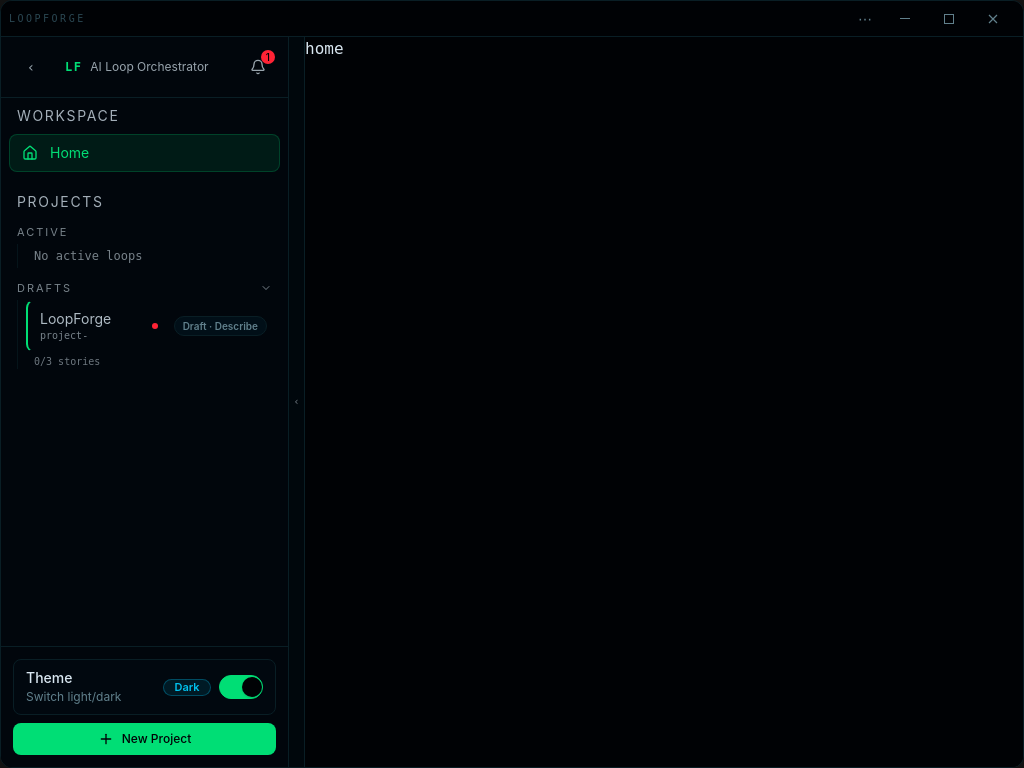
it: AppLayout › requests permission and drives shell toggles through mocked desktop seams
Click the button with test id "app-sidebar-toggle-navigation" at coordinates (31, 67), box [13,49,49,85]
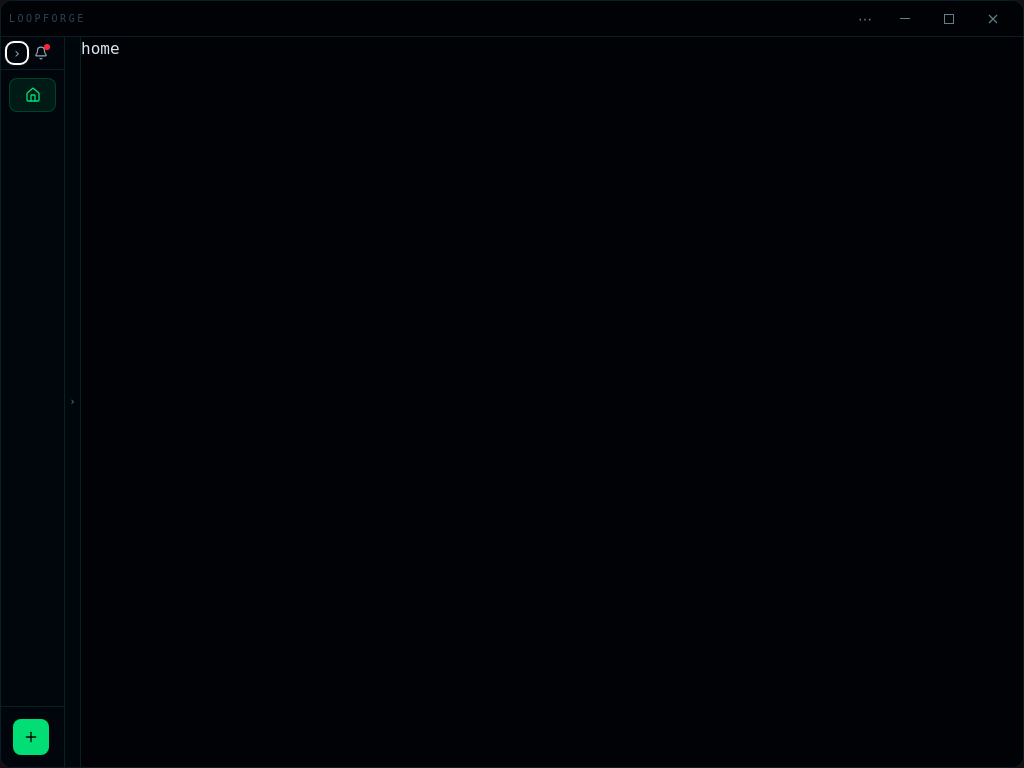
Expected: the element with test id "app-sidebar" has attribute data-state="collapsed", [1,37,65,767]
Click the button with test id "app-sidebar-toggle-notifications" at coordinates (41, 53), box [29,41,53,65]
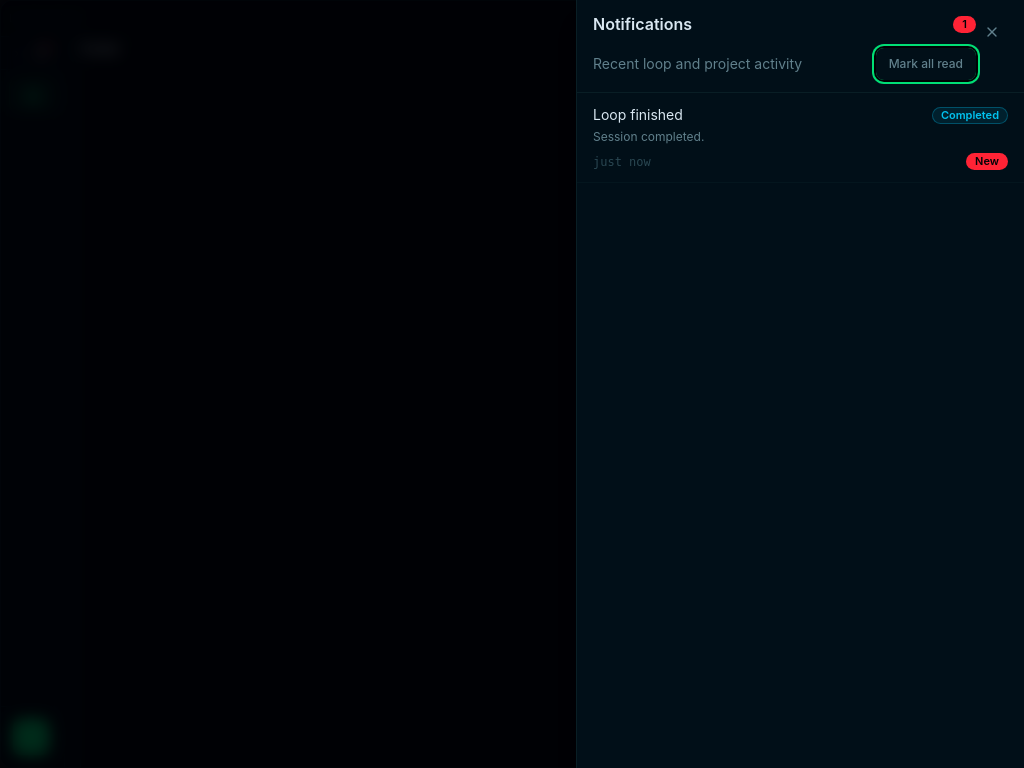
Expected: the heading "Notifications" is shown, [593,12,692,36]
Expected: the text "Loop finished" is shown
Click the text "Loop finished" at coordinates (638, 115), box [593,105,683,125]
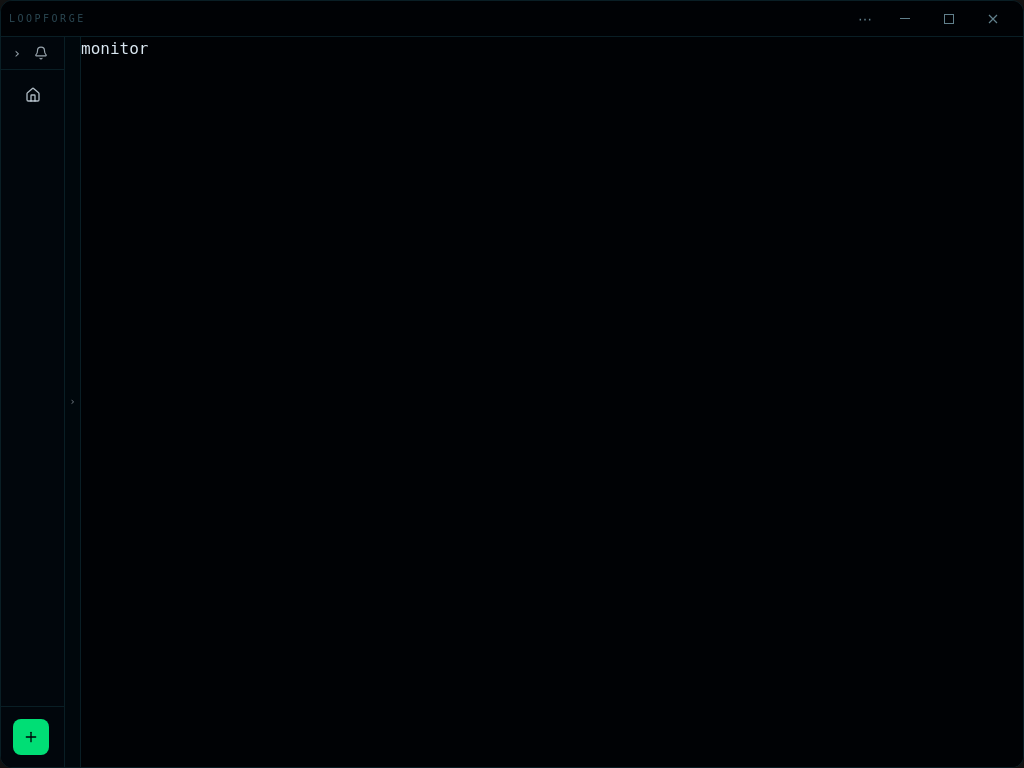
Expected: the text with test id "monitor-route" reads "monitor", [81,39,148,58]
